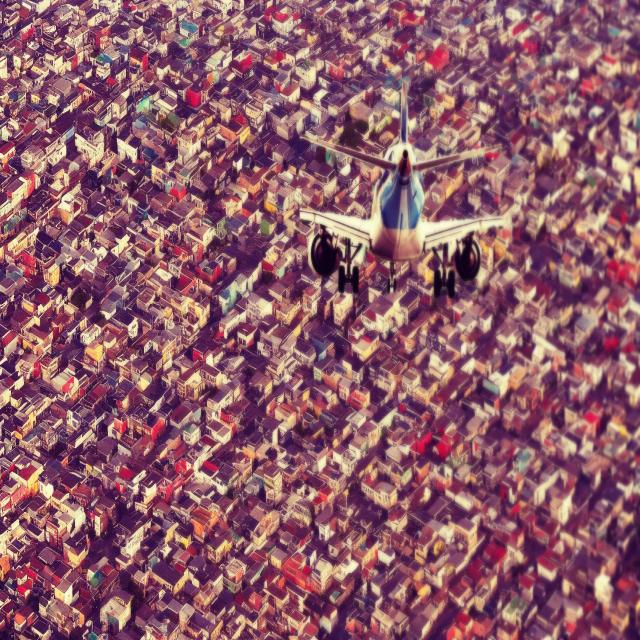airplane: (297, 76, 514, 301)
